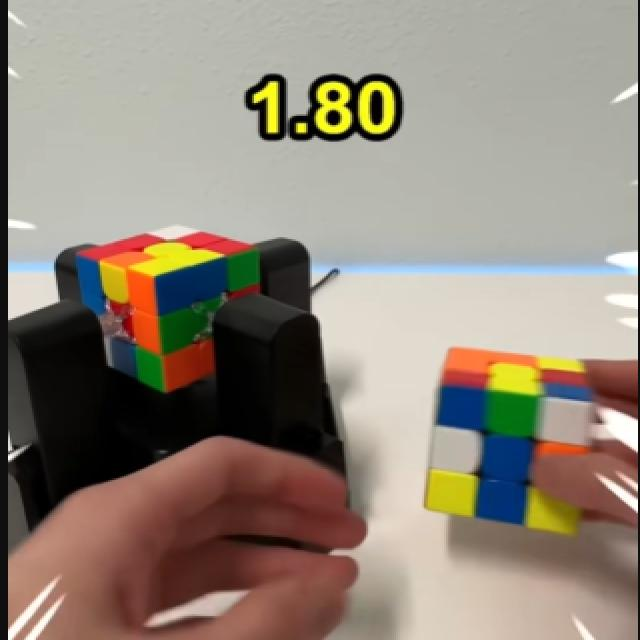Cubo-No-resuelto: (8, 223, 216, 462), (428, 349, 592, 533), (218, 237, 310, 309)
